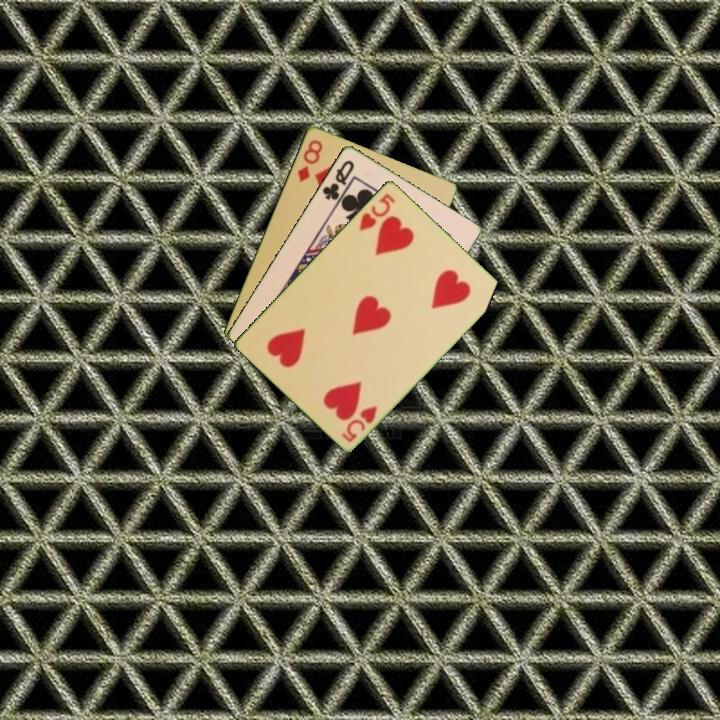5h: (355, 189, 398, 234), (338, 401, 380, 445)
8d: (294, 136, 325, 184)
Qc: (318, 156, 357, 203)
